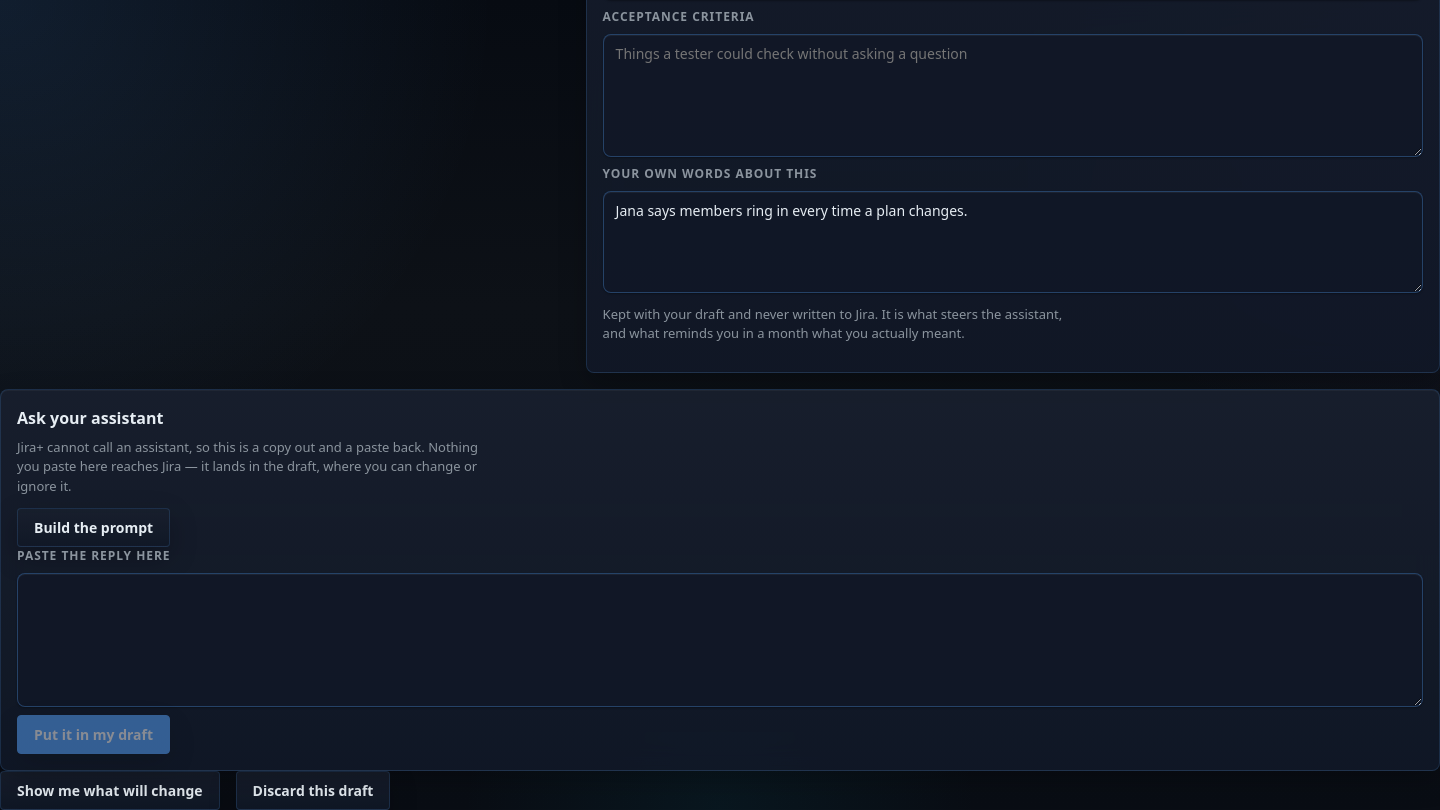
Scenario: before anything can be written › names a missing summary as a reason rather than failing later
(page scrolled)
Step 1. Click the button "Show me what will change" → point(110, 790), box [0,771,220,809]
(page scrolled)
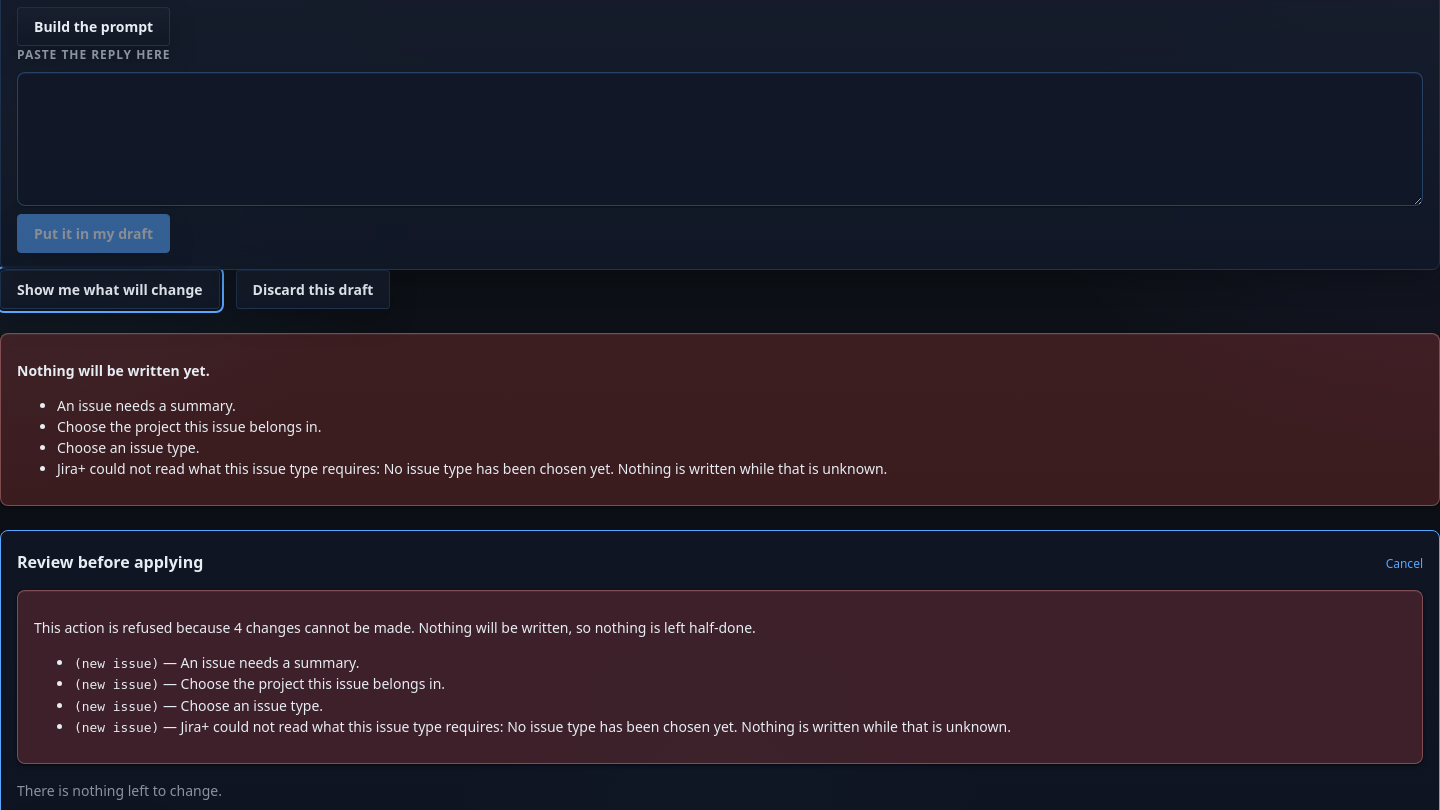
Result: the list item "An issue needs a summary." is shown at [57,396,236,415]
